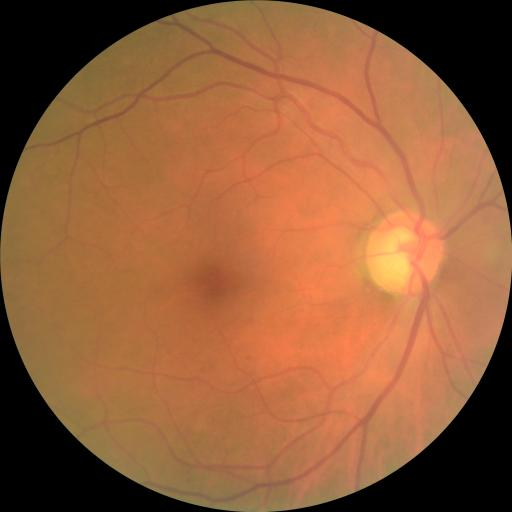Optic Cup: (383, 227, 418, 282)
Optic Disc: (366, 209, 442, 296)
